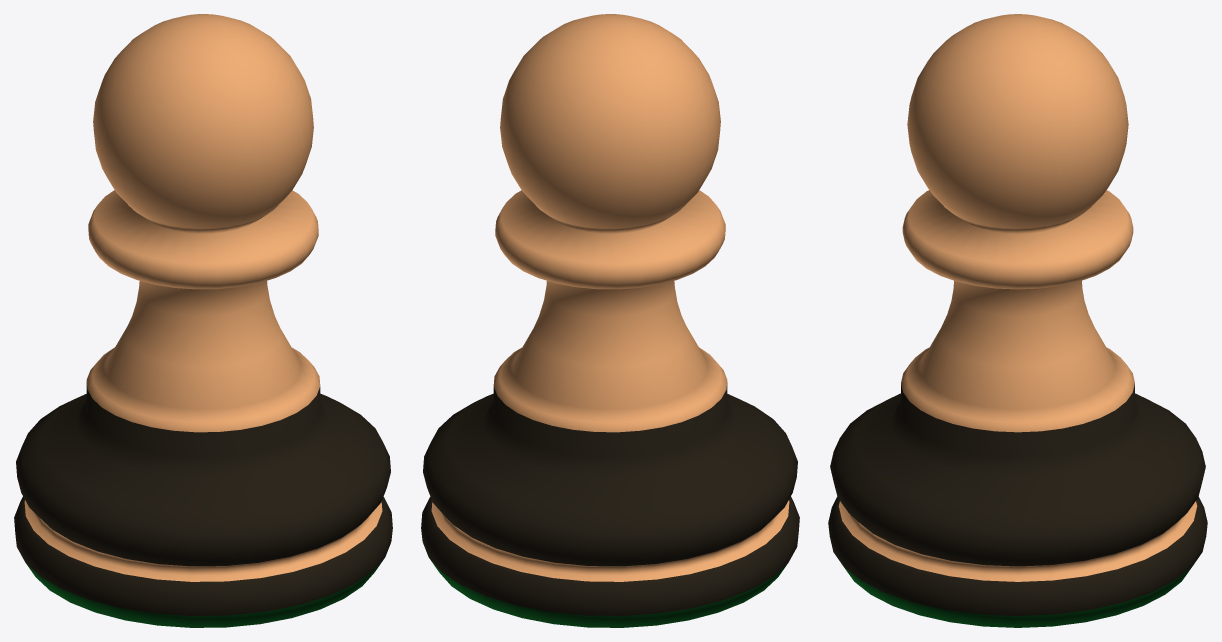
The model's file is PawnWhite.fbx.
3 renders of one model, left to right at view 1: azimuth 30°, elevation 25°; view 2: azimuth 150°, elevation 25°; view 3: azimuth 270°, elevation 25°, orthographic.
Visible parts, largest first — view 1: Black Pawn 4.001; view 2: Black Pawn 4.001; view 3: Black Pawn 4.001.
Part boxes in pixels (x1,y1,x2,y2): Black Pawn 4.001: (14,14,392,627); Black Pawn 4.001: (421,14,799,627); Black Pawn 4.001: (828,14,1207,627).
Bounding box in the file's own units: 3.01 × 4.63 × 3.01.
